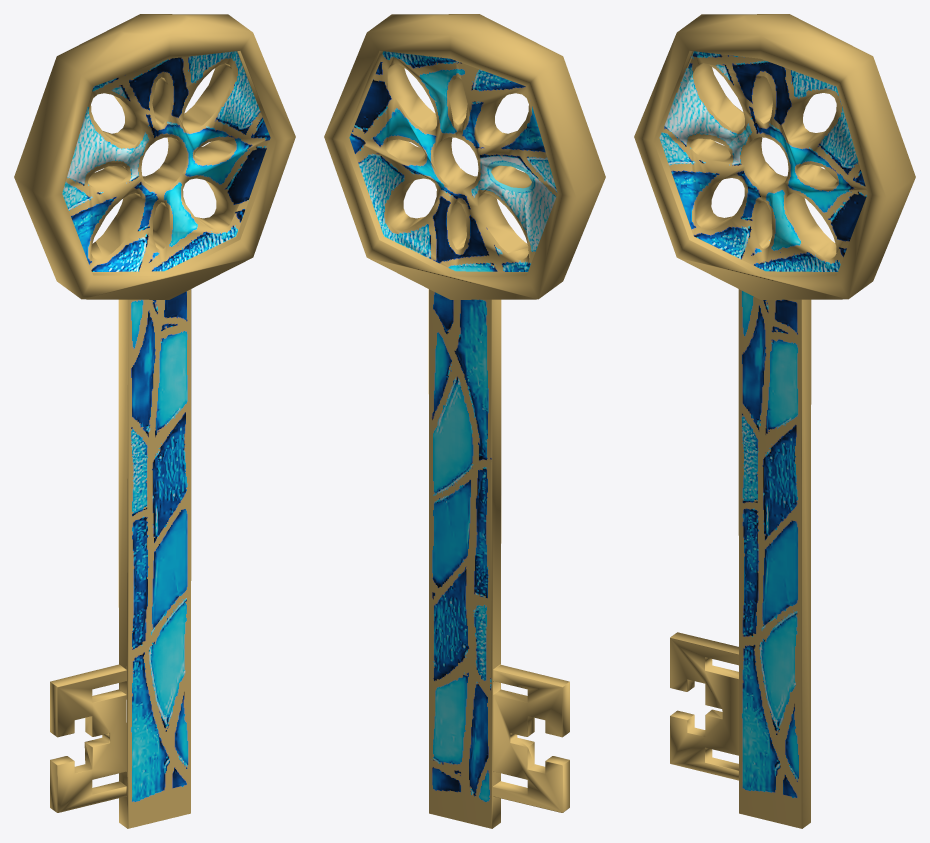
File: key01.glb
3 renders of one model, left to right at view 1: azimuth 30°, elevation 25°; view 2: azimuth 150°, elevation 25°; view 3: azimuth 330°, elevation 25°, orthographic.
Parts seen in each view (by area): view 1: Mesh_0.005; view 2: Mesh_0.005; view 3: Mesh_0.005.
Part boxes in pixels (left/top/right/bottom): Mesh_0.005: left=14, top=14, right=295, bottom=828; Mesh_0.005: left=324, top=14, right=605, bottom=828; Mesh_0.005: left=634, top=14, right=915, bottom=828.
Bounding box in the file's own units: 0.25 × 0.75 × 0.05.
Materials: 1 (1 with a texture image).
